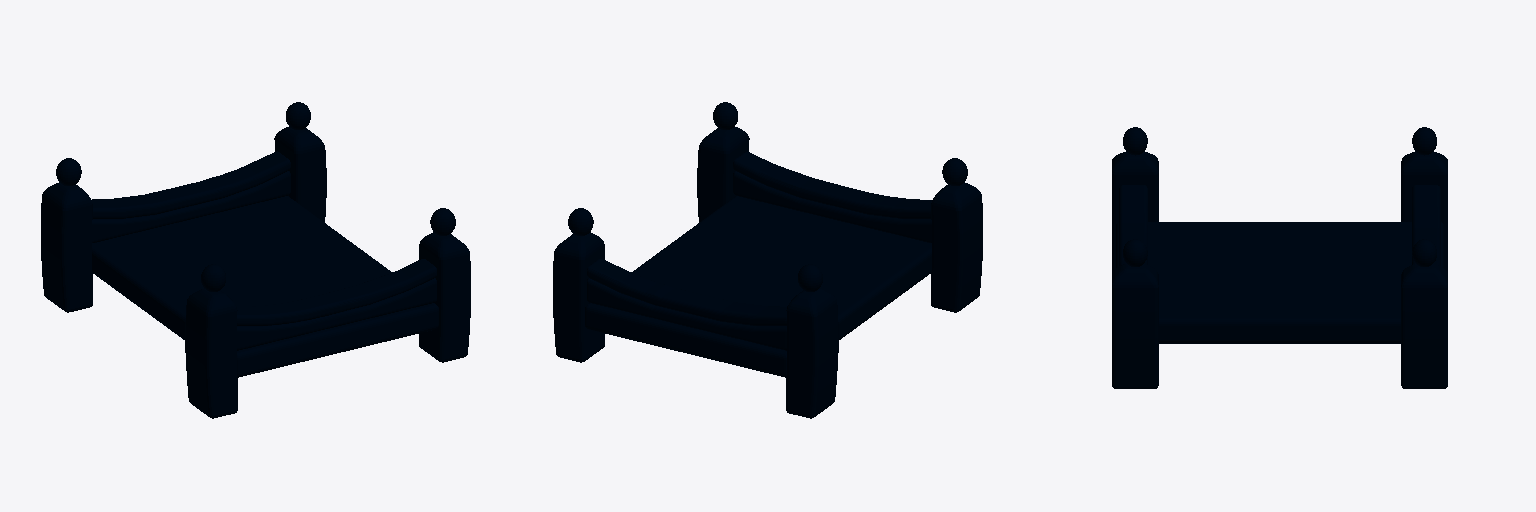
The model's file is BlueBed.obj.
The picture shows the model from 3 angles: view 1: azimuth 30°, elevation 25°; view 2: azimuth 150°, elevation 25°; view 3: azimuth 270°, elevation 25°; orthographic projection.
Visible parts, largest first — view 1: Blue_Bed_Plane.003; view 2: Blue_Bed_Plane.003; view 3: Blue_Bed_Plane.003.
Boxes of the visible parts, x1=… form: Blue_Bed_Plane.003: x1=41, y1=102, x2=470, y2=418; Blue_Bed_Plane.003: x1=553, y1=102, x2=982, y2=418; Blue_Bed_Plane.003: x1=1112, y1=127, x2=1447, y2=388.
Size of the model in its own units: 1.13 by 0.5843 by 1.24.